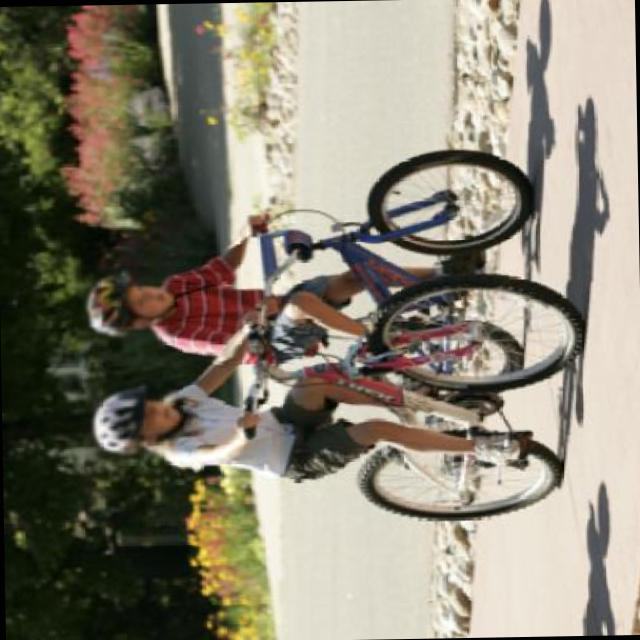With Helmet: (76, 264, 176, 342), (86, 381, 182, 461)
